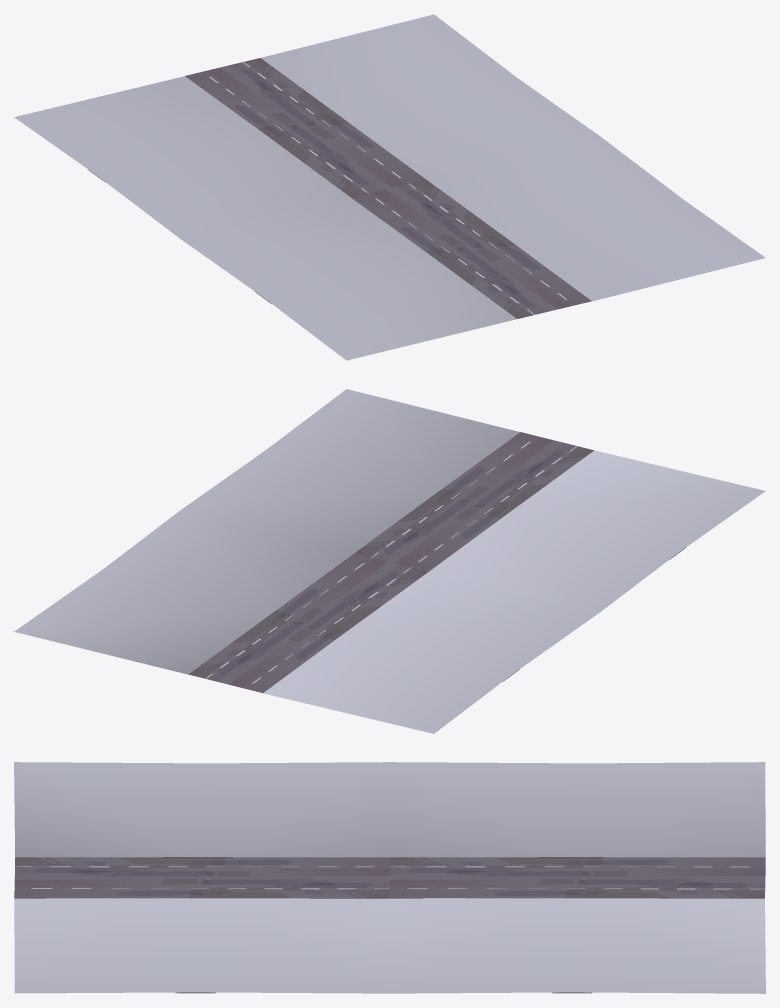
Rendered from floor.fbx.
The picture shows the model from 3 angles, top to bottom: view 1: azimuth 30°, elevation 25°; view 2: azimuth 150°, elevation 25°; view 3: azimuth 270°, elevation 25°; orthographic projection. The views are drawn at different scales.
Parts seen in each view (by area): view 1: Plane_Road_0; view 2: Plane_Road_0; view 3: Plane_Road_0.
Part boxes in pixels (bbox=[...]): Plane_Road_0: bbox=[14, 14, 765, 360]; Plane_Road_0: bbox=[14, 389, 765, 733]; Plane_Road_0: bbox=[14, 762, 765, 993].
Bounding box in the file's own units: 955 × 1.97 × 1310.
1 material, 1 textured.
